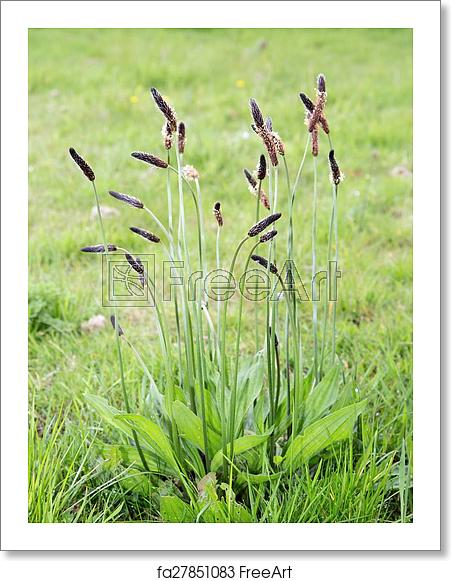buckhorn plantain: (46, 75, 370, 502)
